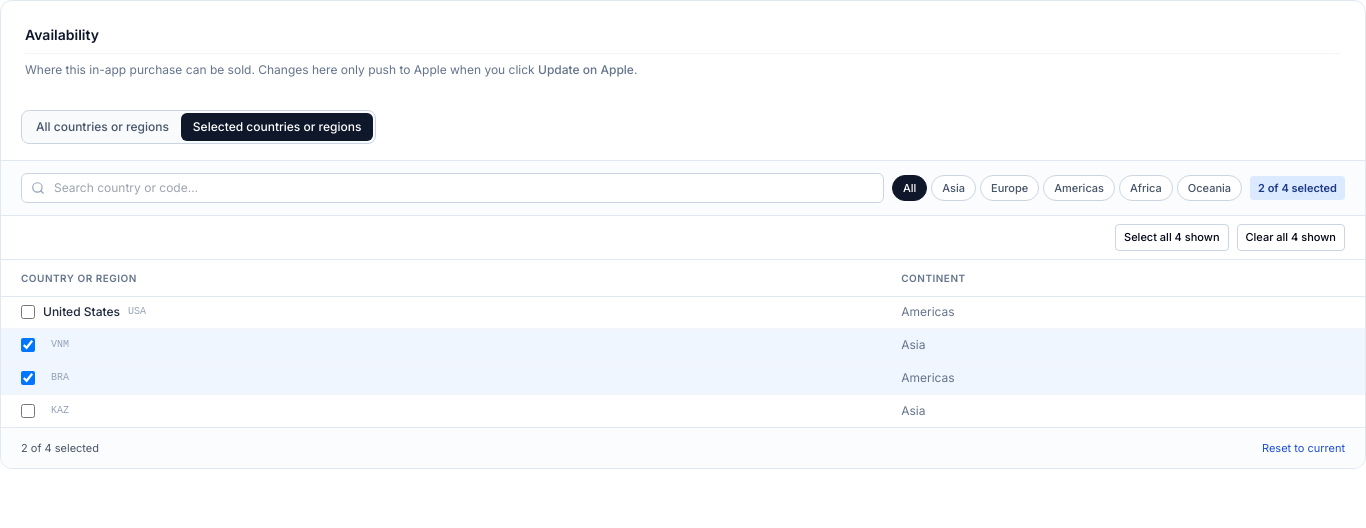
Scenario: reset to current › restores exactly the Apple-side selection
This screenshot has width=1366, height=528.
Click the checkbox labelled "United States USA".
click(28, 312)  # box 21,304 -> 35,318
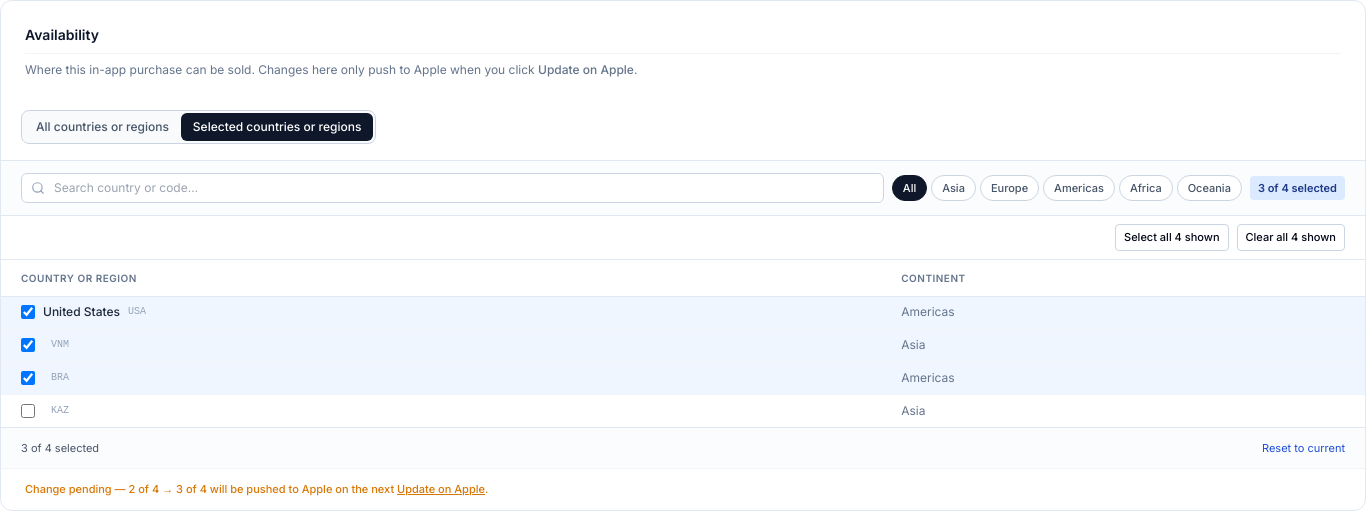
Click the checkbox labelled "VNM".
click(28, 344)  # box 21,338 -> 35,352
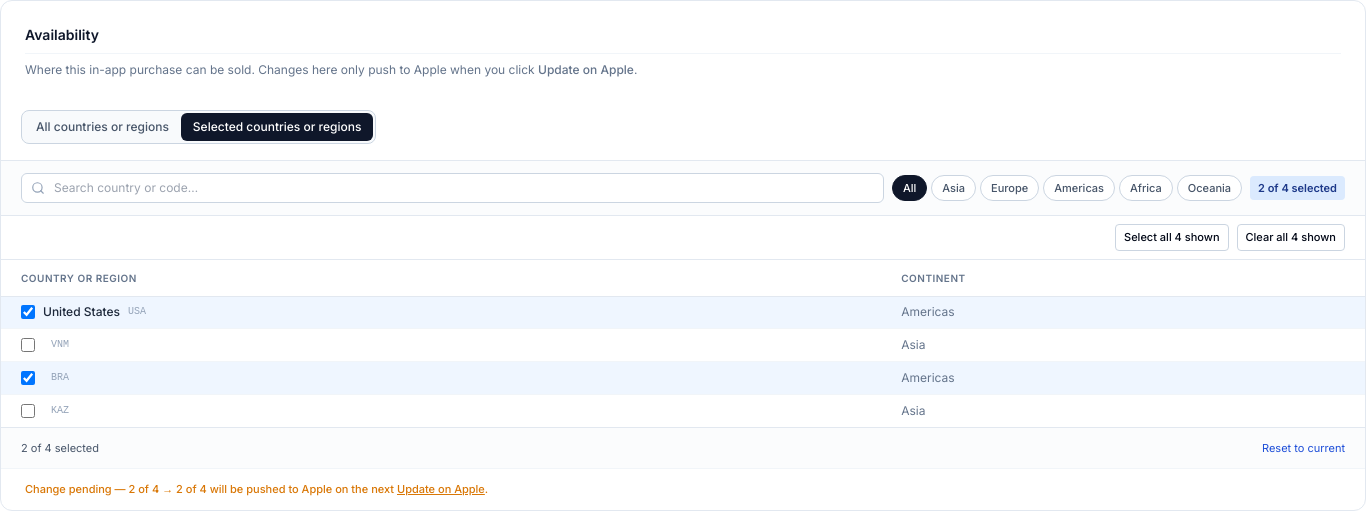
Click the button "Reset to current".
click(1304, 448)  # box 1262,440 -> 1345,456
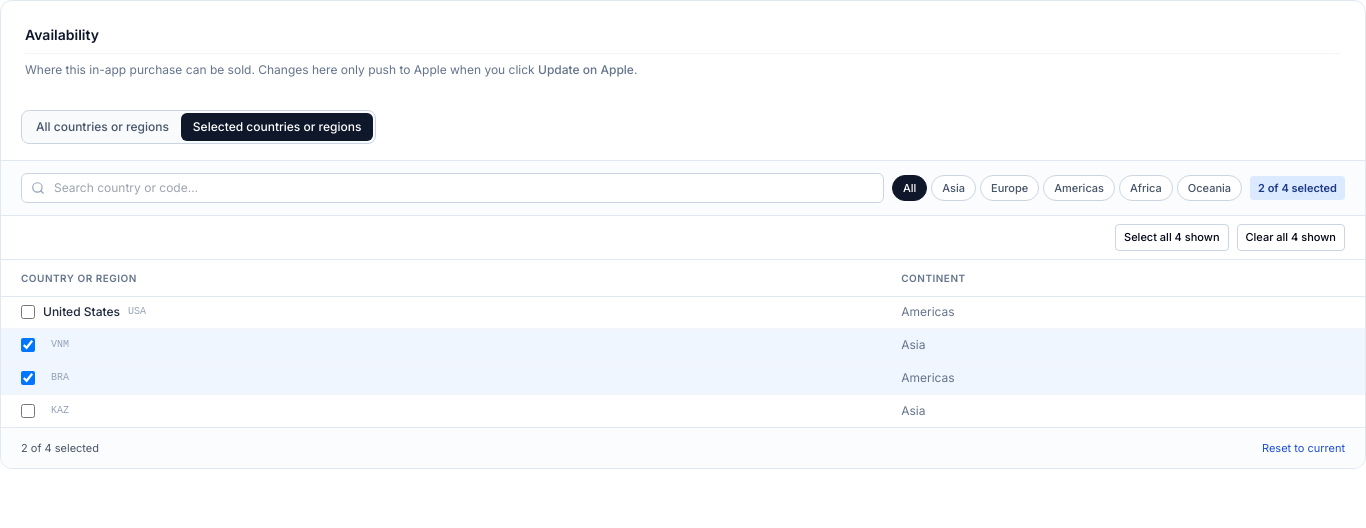
Expected: the element with test id "availabilities-pending" is gone
